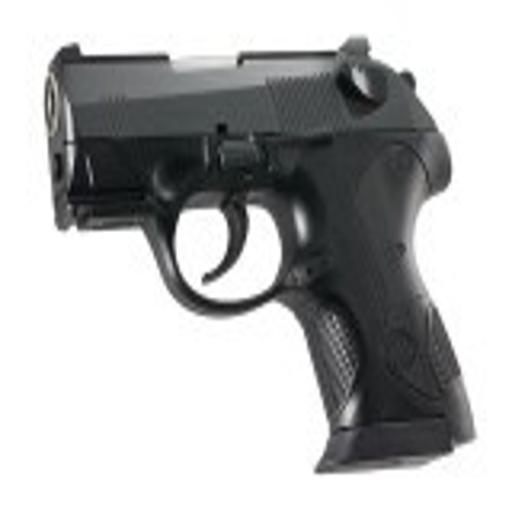Handgun: (40, 41, 482, 472)
